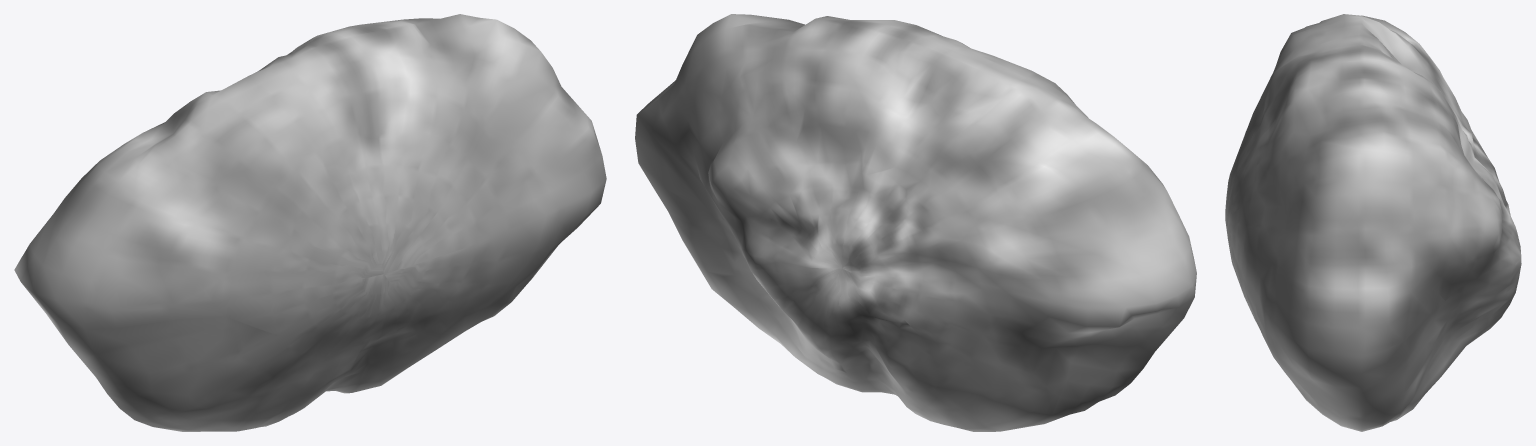
Rendered from prometheus - thumbnail.dae.
The picture shows the model from 3 angles, left to right: view 1: azimuth 30°, elevation 25°; view 2: azimuth 150°, elevation 25°; view 3: azimuth 270°, elevation 25°; orthographic projection.
Parts seen in each view (by area): view 1: obj_0; view 2: obj_0; view 3: obj_0.
Part boxes in pixels (box(x1,y1,x2,y2)): obj_0: box(14, 14, 606, 431); obj_0: box(635, 14, 1196, 431); obj_0: box(1225, 14, 1521, 431).
Size of the model in its own units: 1.48 by 0.684 by 0.9264.
1 material, 1 textured.
